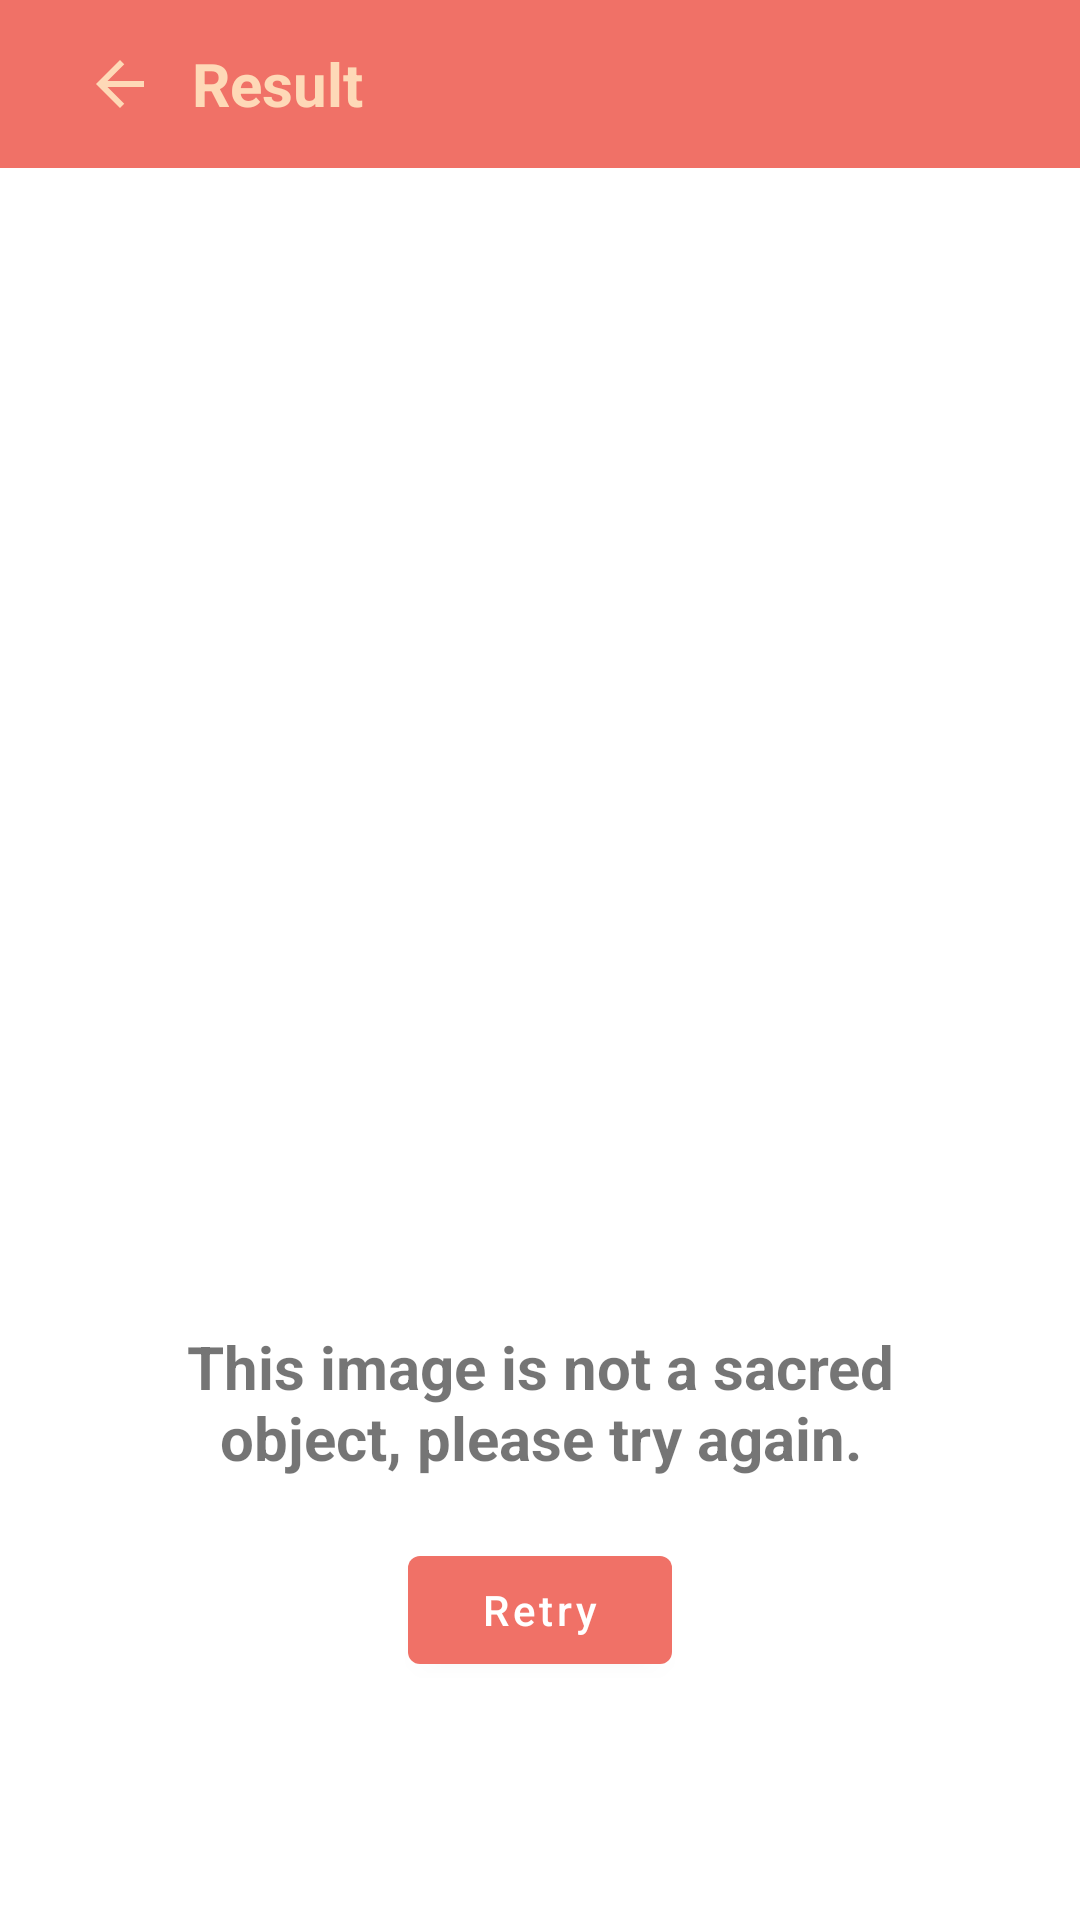

Point at icon controls on the screen. Image size 1080 × 1920, points as (x=x, y=y).
Back: (x=120, y=84)
